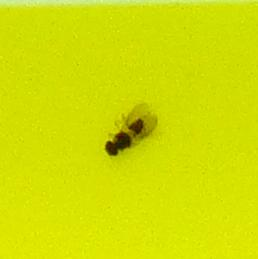Brachycera: (100, 100, 158, 159)
